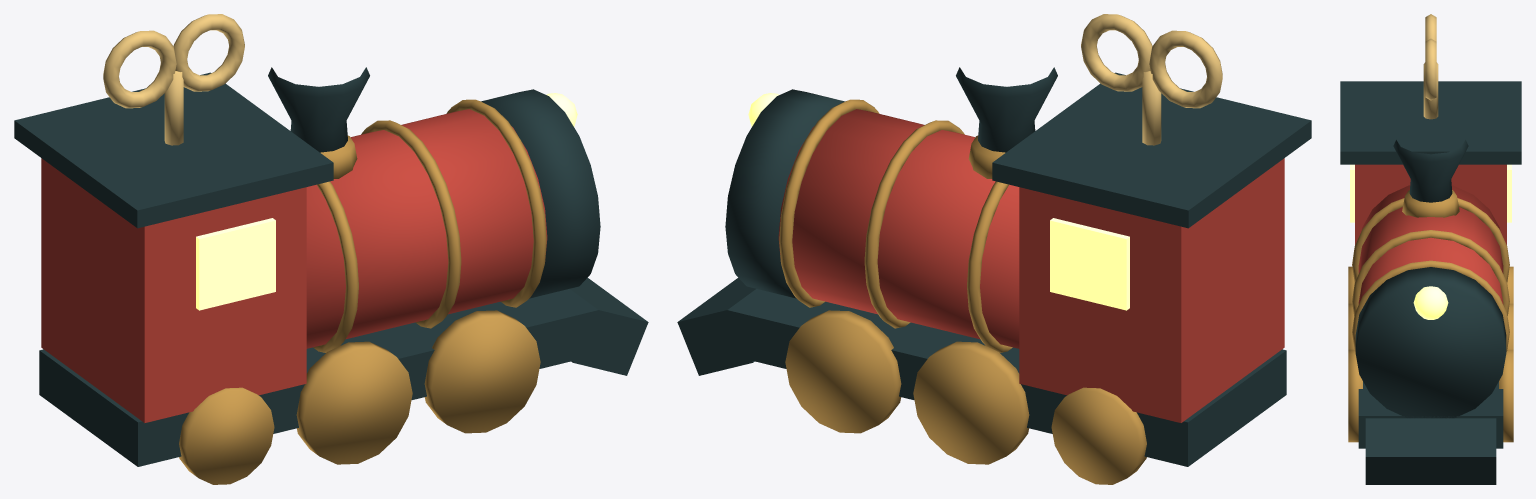
File: locomotive.glb
3 renders of one model, left to right at view 1: azimuth 30°, elevation 25°; view 2: azimuth 150°, elevation 25°; view 3: azimuth 270°, elevation 25°, orthographic. The views are drawn at different scales.
Parts seen in each view (by area): view 1: cab, boiler, cab-roof, chassis, smokebox, wheel-0.65--1, wheel--0.1--1, wheel--0.85--1, cab-window--1, funnel, cowcatcher, boiler-band-1.0 (+6 smaller); view 2: cab, boiler, cab-roof, chassis, smokebox, wheel-0.65-1, wheel--0.1-1, wheel--0.85-1, cab-window-1, funnel, cowcatcher, boiler-band-1.0 (+6 smaller); view 3: smokebox, cab-roof, cowcatcher, boiler, cab, funnel, chassis, boiler-band-0.5, boiler-band--0.1, boiler-band-1.0, wheel-0.65-1, wheel-0.65--1 (+11 smaller).
Part boxes in pixels (<box>): cab: <box>41,158,306,422</box>; boiler: <box>306,109,547,348</box>; cab-roof: <box>14,72,333,228</box>; chassis: <box>39,289,598,466</box>; smokebox: <box>481,89,600,298</box>; wheel-0.65--1: <box>424,310,540,433</box>; wheel--0.1--1: <box>296,341,412,464</box>; wheel--0.85--1: <box>179,387,274,484</box>; cab-window--1: <box>196,218,275,310</box>; funnel: <box>268,67,369,152</box>; cowcatcher: <box>570,277,648,375</box>; boiler-band-1.0: <box>446,99,546,307</box>; cab: <box>1019,158,1284,422</box>; boiler: <box>778,109,1019,348</box>; cab-roof: <box>992,72,1311,228</box>; chassis: <box>727,289,1286,466</box>; smokebox: <box>725,89,844,298</box>; wheel-0.65-1: <box>785,310,901,433</box>; wheel--0.1-1: <box>913,341,1029,464</box>; wheel--0.85-1: <box>1051,387,1146,484</box>; cab-window-1: <box>1050,218,1129,310</box>; funnel: <box>956,67,1057,152</box>; cowcatcher: <box>677,277,755,375</box>; boiler-band-1.0: <box>779,99,879,307</box>; smokebox: <box>1355,267,1506,418</box>; cab-roof: <box>1340,81,1521,164</box>; cowcatcher: <box>1365,418,1496,484</box>; boiler: <box>1358,185,1503,304</box>; cab: <box>1355,164,1506,244</box>; funnel: <box>1393,140,1468,202</box>; chassis: <box>1358,381,1503,448</box>; boiler-band-0.5: <box>1352,230,1509,315</box>; boiler-band--0.1: <box>1352,198,1509,282</box>; boiler-band-1.0: <box>1352,260,1509,351</box>; wheel-0.65-1: <box>1499,349,1513,442</box>; wheel-0.65--1: <box>1348,349,1362,442</box>.
Size of the model in its own units: 3.1 by 2.41 by 1.25.
